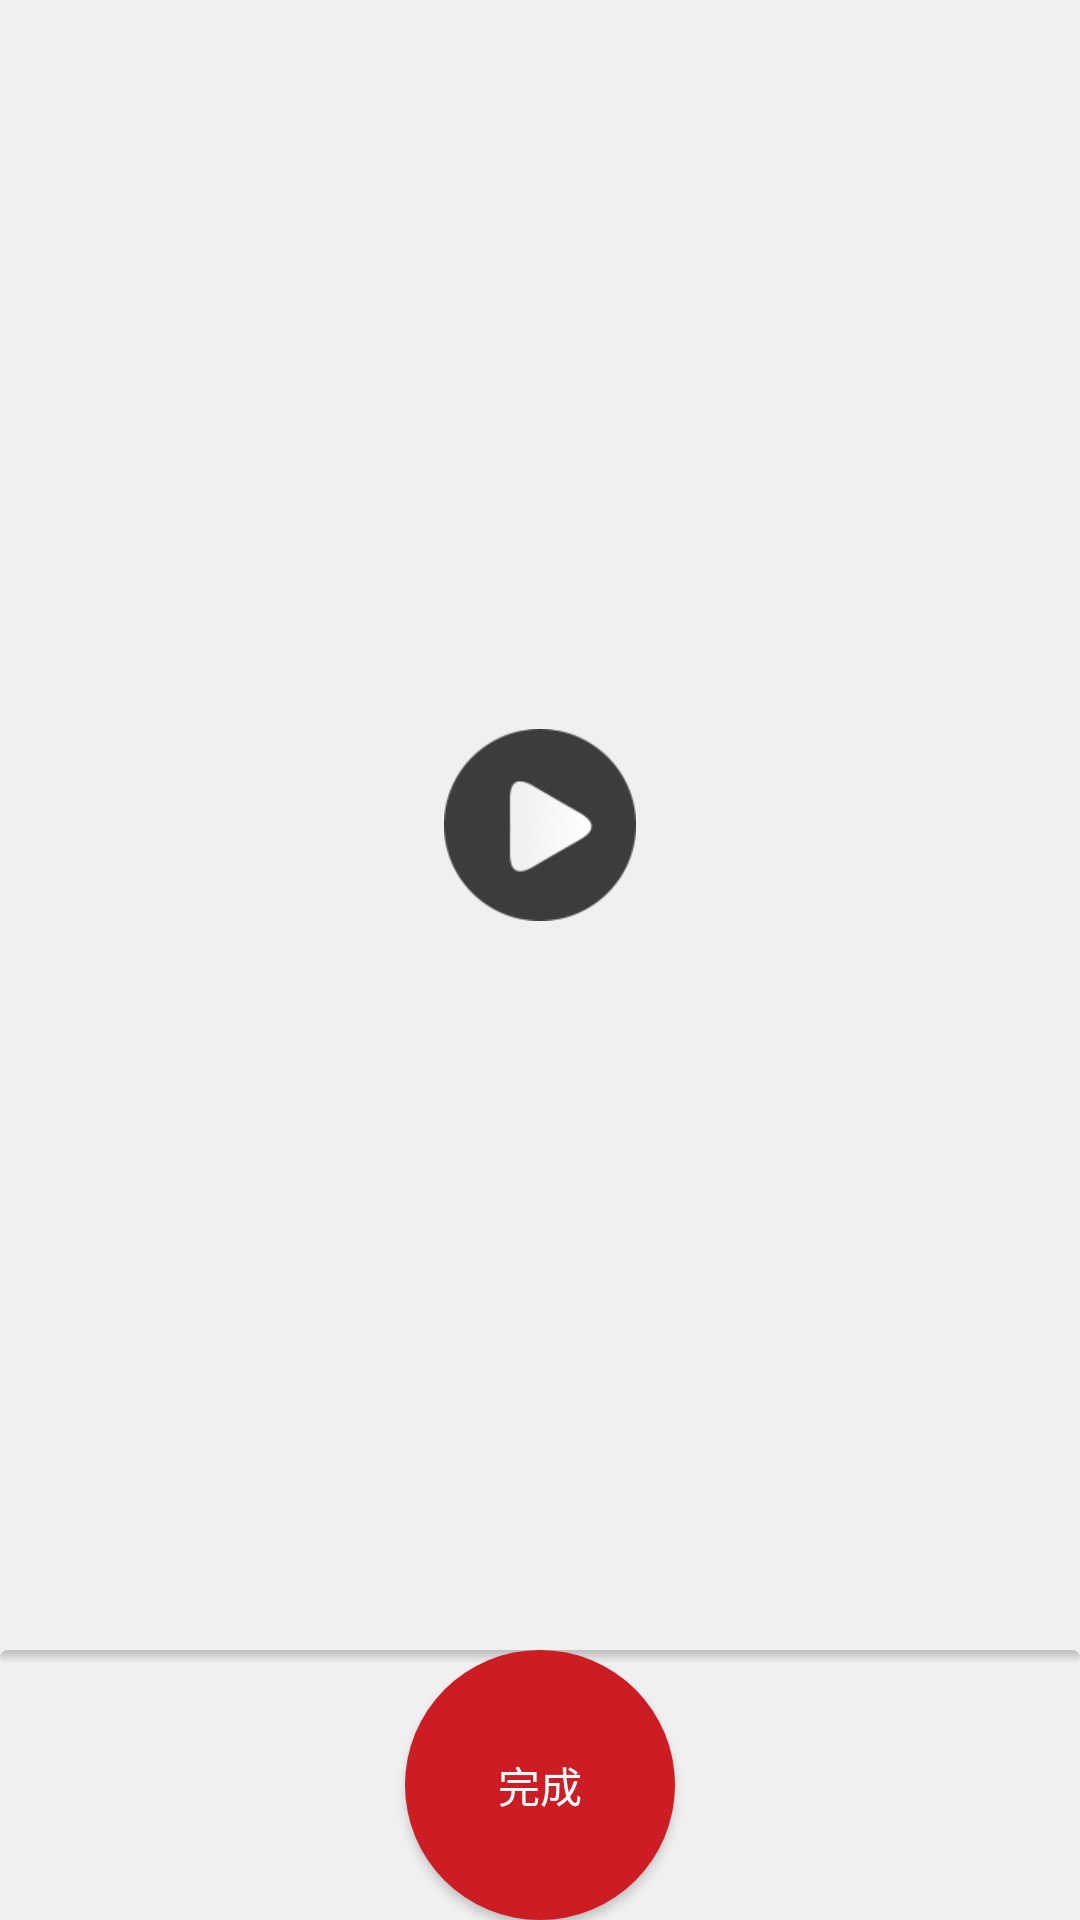

Screen size 1080×1920. Icon name, then its box in pixels as box=[x1, y1, x2, y2]:
video play: box=[444, 729, 636, 921]
